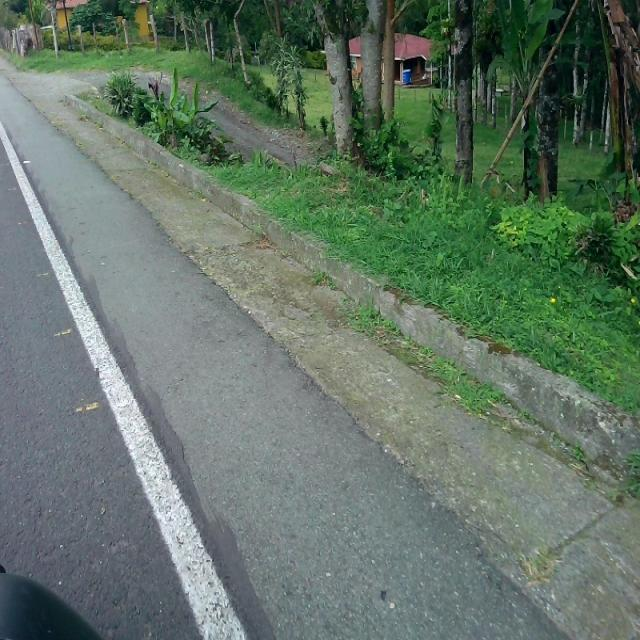DITCH: (2, 58, 637, 639), (40, 35, 638, 638)
